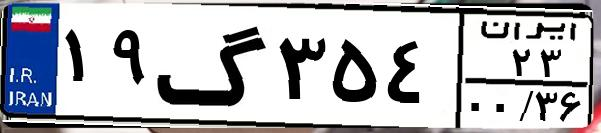0: (470, 70, 495, 125), (495, 70, 520, 125)
1: (57, 26, 110, 100)
2: (508, 27, 537, 80)
3: (270, 28, 330, 110), (537, 27, 568, 80), (535, 70, 560, 125)
4: (385, 28, 445, 110)
5: (330, 28, 385, 110)
6: (560, 70, 590, 125)
9: (110, 28, 156, 98)
گ: (156, 12, 270, 120)
